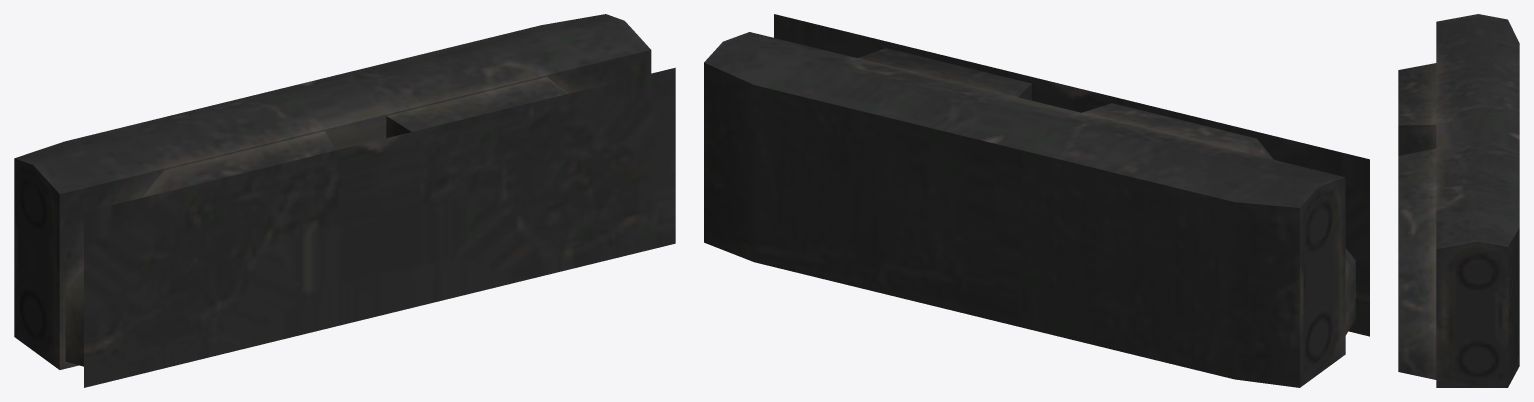
3 renders of one model, left to right at view 1: azimuth 30°, elevation 25°; view 2: azimuth 150°, elevation 25°; view 3: azimuth 270°, elevation 25°, orthographic. The views are drawn at different scales.
Parts seen in each view (by area): view 1: set_0_group_0; view 2: set_0_group_0; view 3: set_0_group_0.
Part boxes in pixels (bbox=[...]): set_0_group_0: bbox=[14, 14, 675, 387]; set_0_group_0: bbox=[704, 14, 1369, 387]; set_0_group_0: bbox=[1398, 14, 1519, 387].
Bounding box in the file's own units: 0.4639 × 0.1392 × 0.1048.
1 material, 1 textured.
